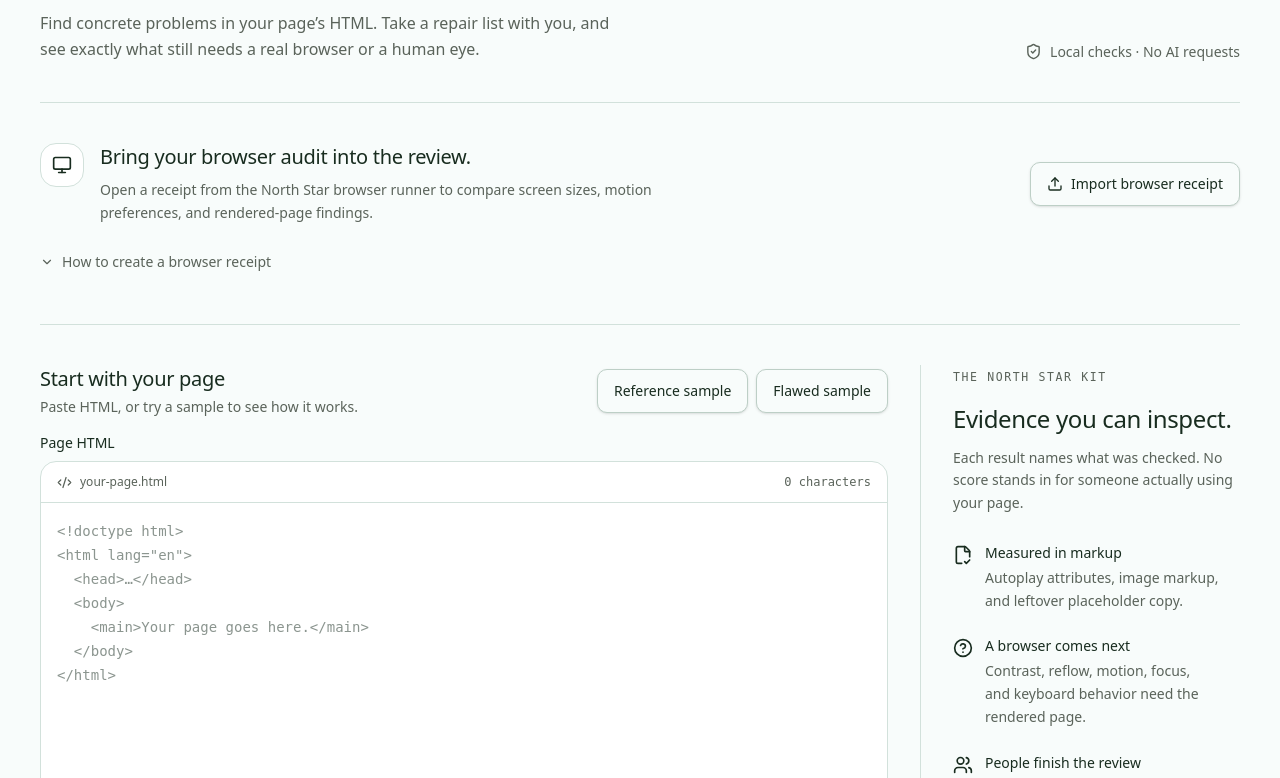
Test: quality workbench evidence › finds static sample defects without pretending layout checks ran
The image size is (1280, 778).
(page scrolled)
Step 1. Click the button "Flawed sample" → (822,391), box [756, 369, 888, 413]
(page scrolled)
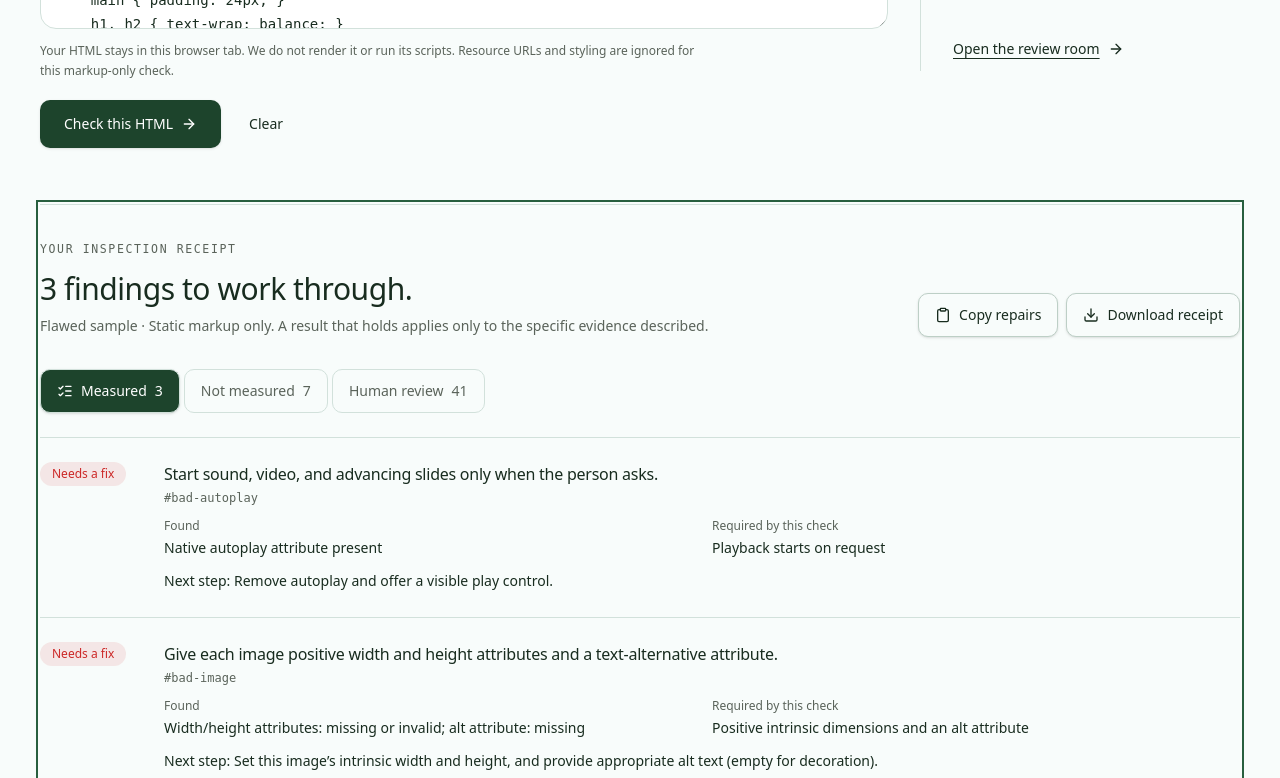
Expected: the heading "3 findings to work through." is shown, [40, 268, 412, 309]
Expected: the text "Native autoplay attribute present" is shown, [164, 538, 382, 557]
Expected: the tab "Not measured 7" is shown, [184, 369, 328, 413]
